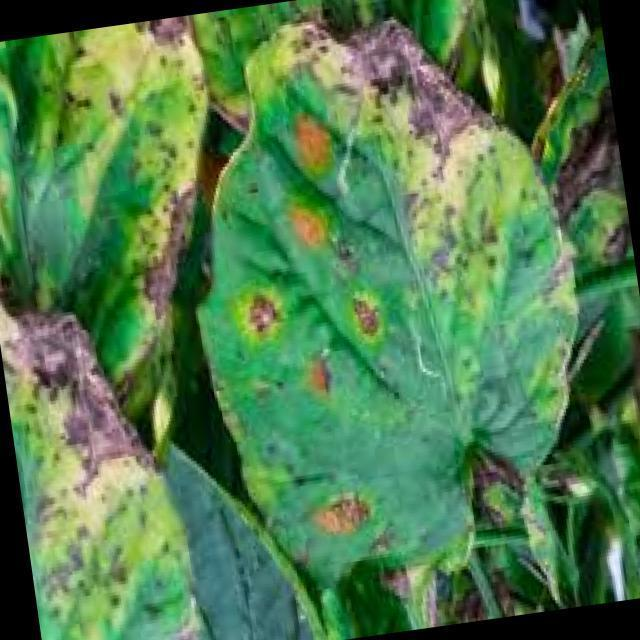Septoria: (194, 0, 576, 566), (0, 281, 182, 640), (70, 14, 243, 333)
